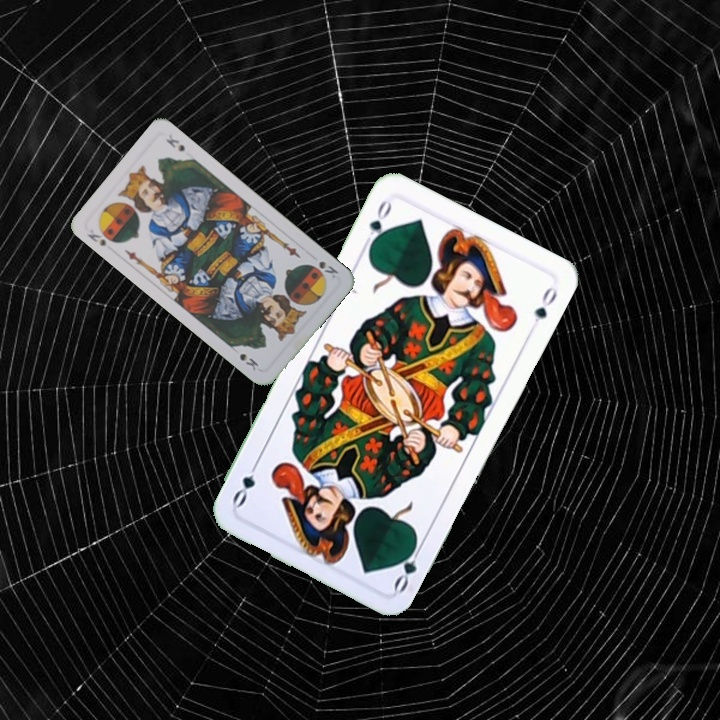GO: (389, 536, 426, 595), (359, 196, 395, 252)
SK: (83, 223, 119, 249), (314, 257, 341, 281)
